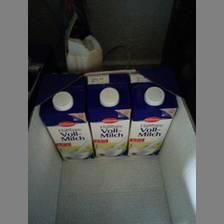milk: (39, 85, 94, 162), (131, 81, 178, 163), (87, 81, 130, 158)
